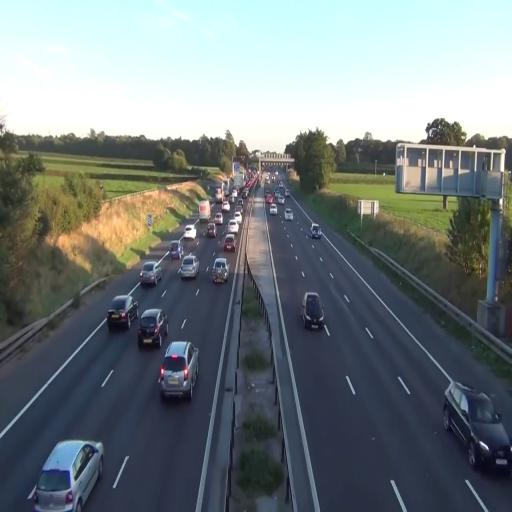vehicle: (442, 380, 512, 474), (28, 438, 104, 511), (158, 340, 200, 400), (137, 308, 168, 348), (108, 295, 134, 332), (302, 292, 325, 331), (139, 261, 162, 289), (179, 255, 199, 281), (212, 256, 230, 284), (222, 234, 237, 252), (310, 222, 320, 237), (284, 208, 294, 220)
